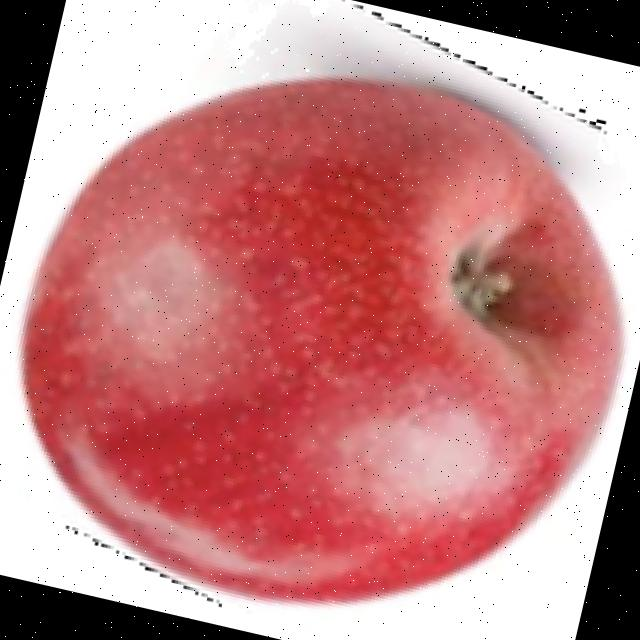apple: (11, 0, 630, 612)
